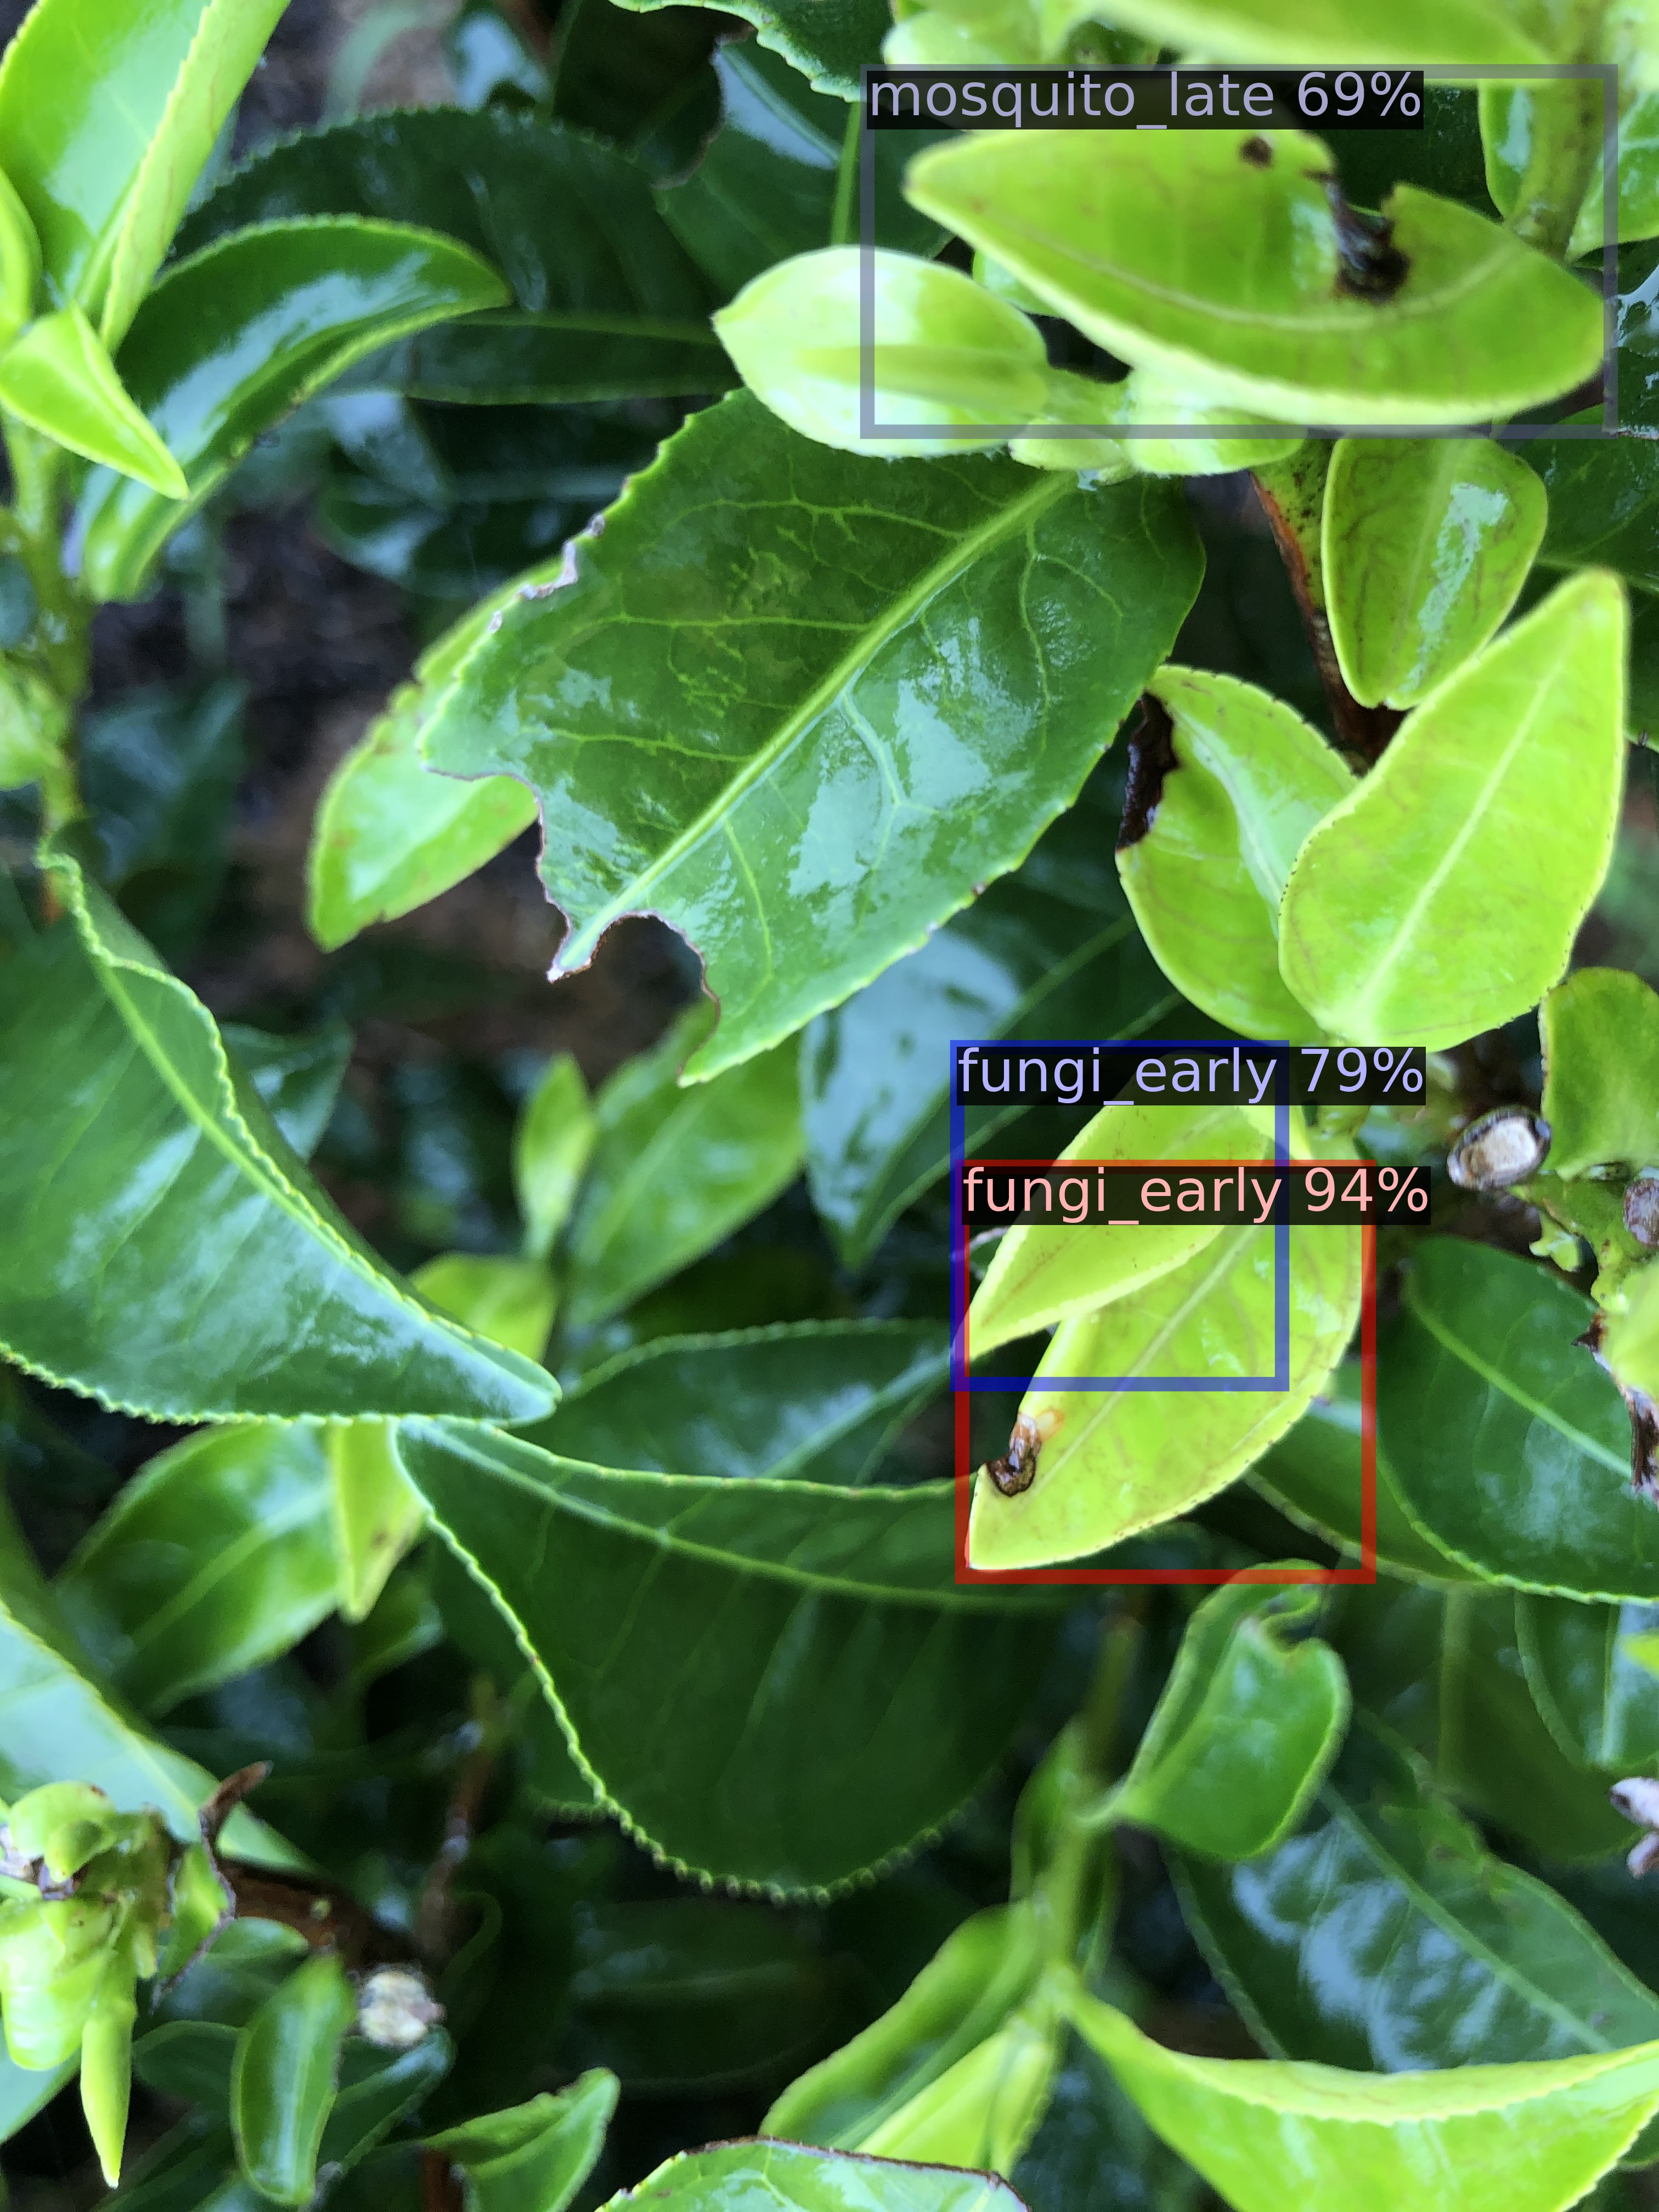fungi_early: (962, 1167, 1368, 1576), (957, 1047, 1281, 1385)
mosquito_late: (866, 71, 1610, 432)
